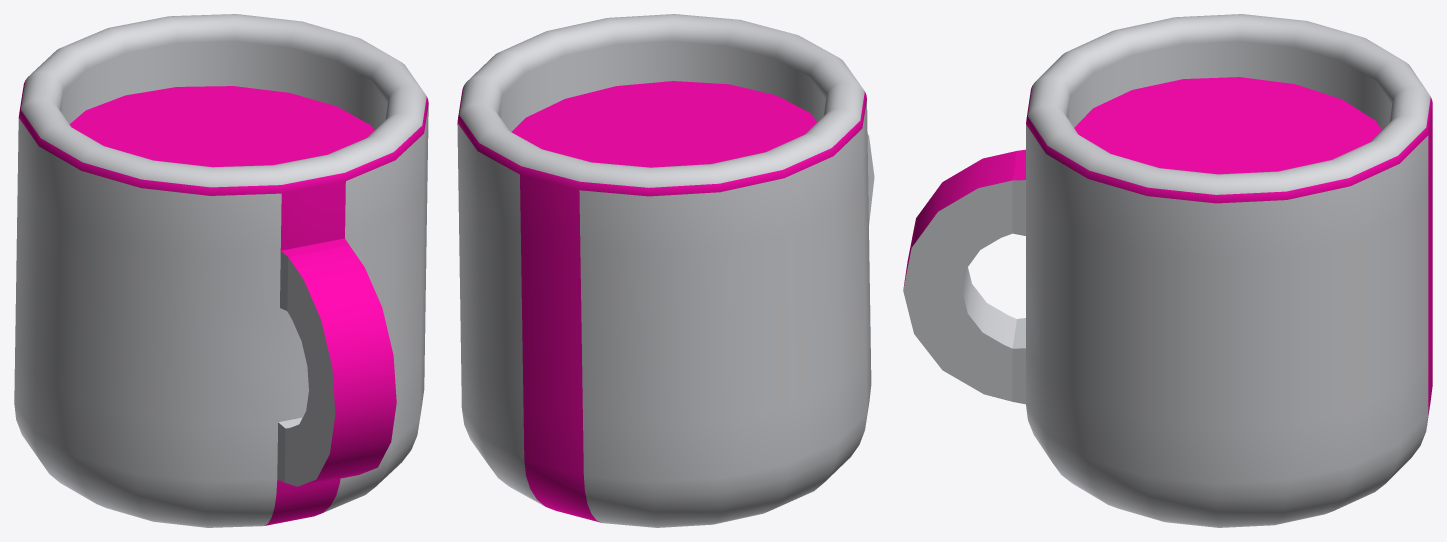
File: cup_pink.FBX
The picture shows the model from 3 angles, left to right: view 1: azimuth 30°, elevation 25°; view 2: azimuth 150°, elevation 25°; view 3: azimuth 270°, elevation 25°; orthographic projection.
Visible parts, largest first — view 1: Line001, Cylinder001; view 2: Line001, Cylinder001; view 3: Line001, Cylinder001.
Boxes of the visible parts, x1,y1,x2,y2 form: Line001: (14, 14, 428, 527); Cylinder001: (69, 86, 374, 167); Line001: (457, 14, 874, 527); Cylinder001: (511, 81, 816, 167); Line001: (903, 14, 1432, 527); Cylinder001: (1074, 77, 1381, 174).
Size of the model in its own units: 101 by 101 by 129.
